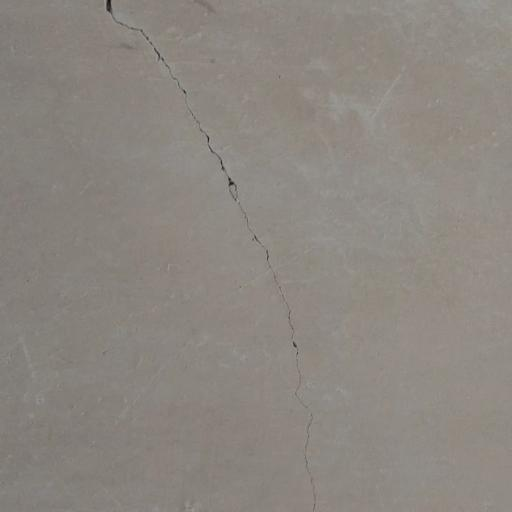minor_crack: (85, 0, 335, 512)
